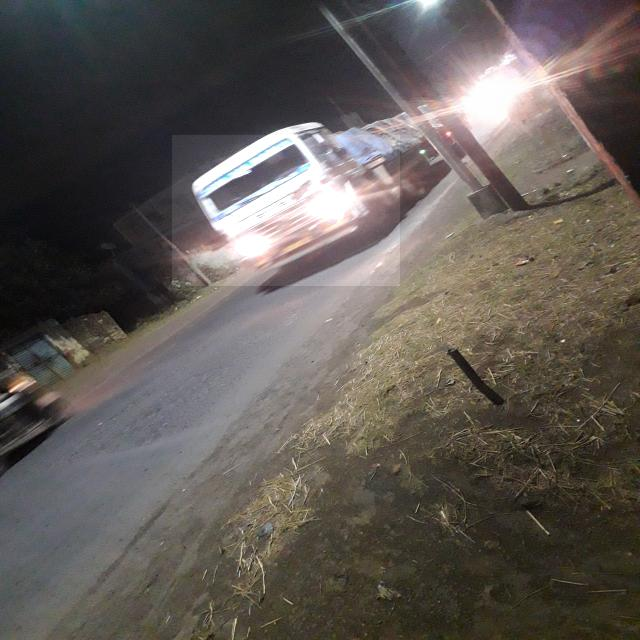Truck: (172, 135, 400, 286)
